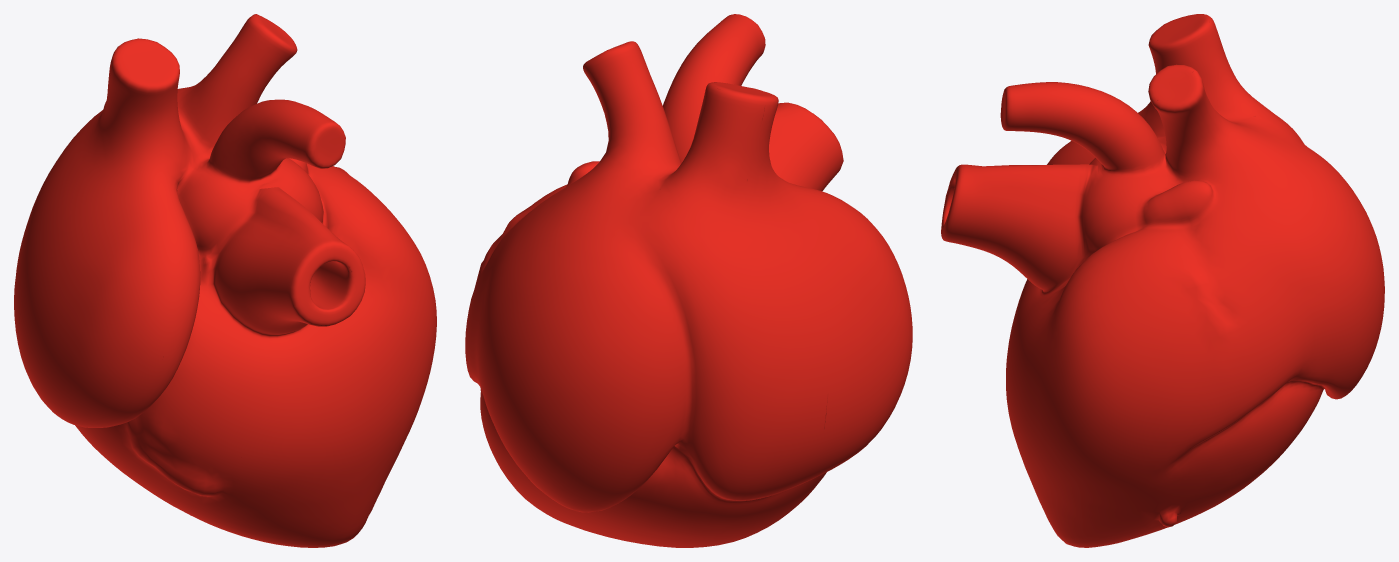
Rendered from Heart.fbx.
The picture shows the model from 3 angles, left to right: view 1: azimuth 30°, elevation 25°; view 2: azimuth 150°, elevation 25°; view 3: azimuth 270°, elevation 25°; orthographic projection. The views are drawn at different scales.
Parts seen in each view (by area): view 1: model; view 2: model; view 3: model.
Boxes of the visible parts, bbox=[...] form: model: bbox=[14, 14, 436, 547]; model: bbox=[465, 14, 912, 547]; model: bbox=[941, 14, 1384, 547].
Size of the model in its own units: 78.32 by 100 by 86.57.
Materials: 1 (1 with a texture image).
